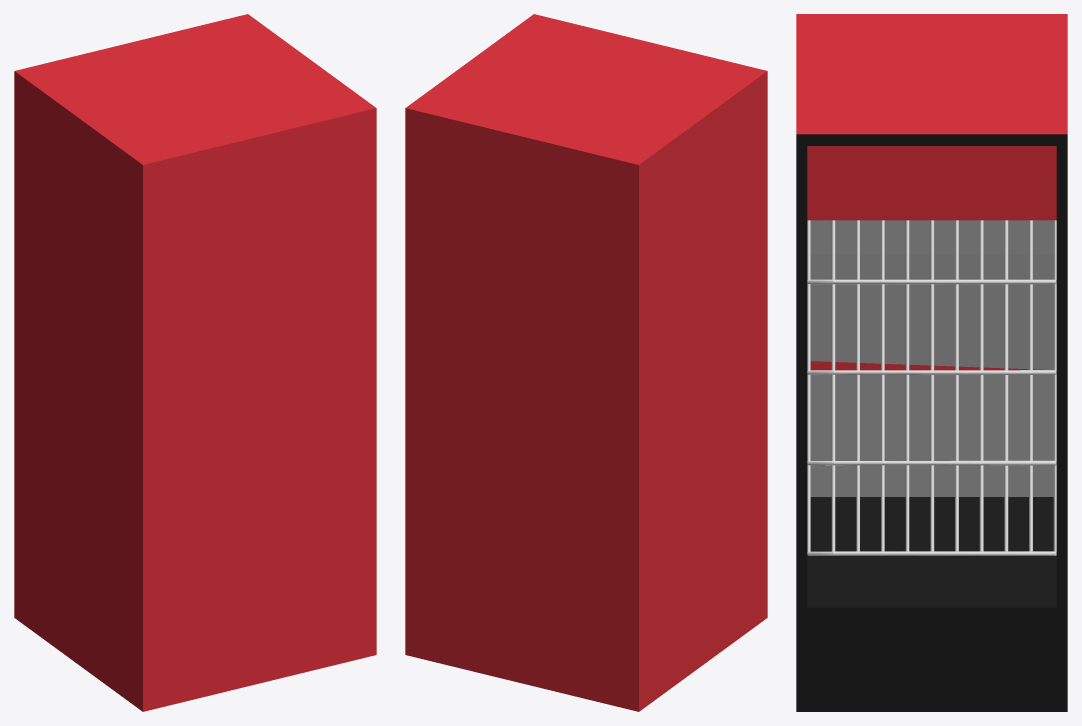
The picture shows the model from 3 angles, left to right: view 1: azimuth 30°, elevation 25°; view 2: azimuth 150°, elevation 25°; view 3: azimuth 270°, elevation 25°; orthographic projection. The views are drawn at different scales.
Visible parts, largest first — view 1: Cube; view 2: Cube; view 3: Cube, Cube.002.
Part boxes in pixels (x1=…): Cube: x1=14, y1=14, x2=376, y2=711; Cube: x1=405, y1=14, x2=767, y2=711; Cube: x1=796, y1=14, x2=1067, y2=711; Cube.002: x1=807, y1=220, x2=1056, y2=555.
Bounding box in the file's own units: 268 × 599 × 255.
